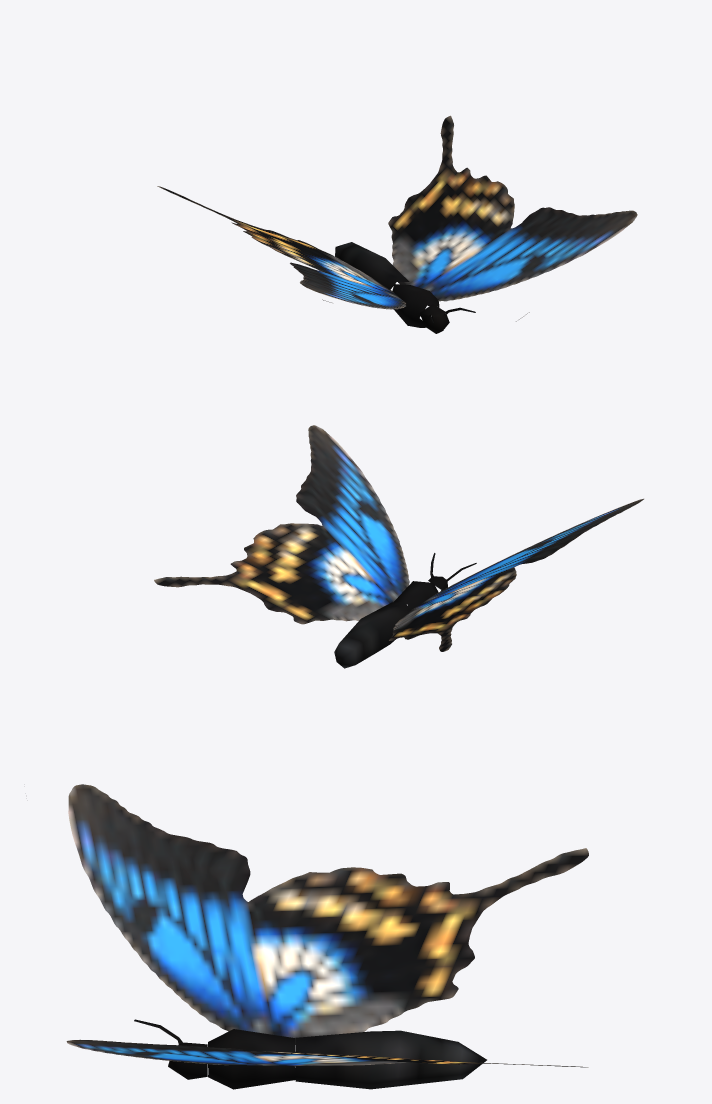
File: 026a4dec-8372-41c0-99b2-1ea1f19460e9.glb
3 renders of one model, top to bottom at view 1: azimuth 30°, elevation 25°; view 2: azimuth 150°, elevation 25°; view 3: azimuth 270°, elevation 25°, orthographic. The views are drawn at different scales.
Parts seen in each view (by area): view 1: Swallowtail; view 2: Swallowtail; view 3: Swallowtail.
Boxes of the visible parts, left/top/right/bottom form: Swallowtail: left=157, top=115, right=637, bottom=333; Swallowtail: left=154, top=425, right=643, bottom=668; Swallowtail: left=66, top=784, right=588, bottom=1089.
Bounding box in the file's own units: 0.4456 × 0.1204 × 0.3546.
1 material, 1 textured.
